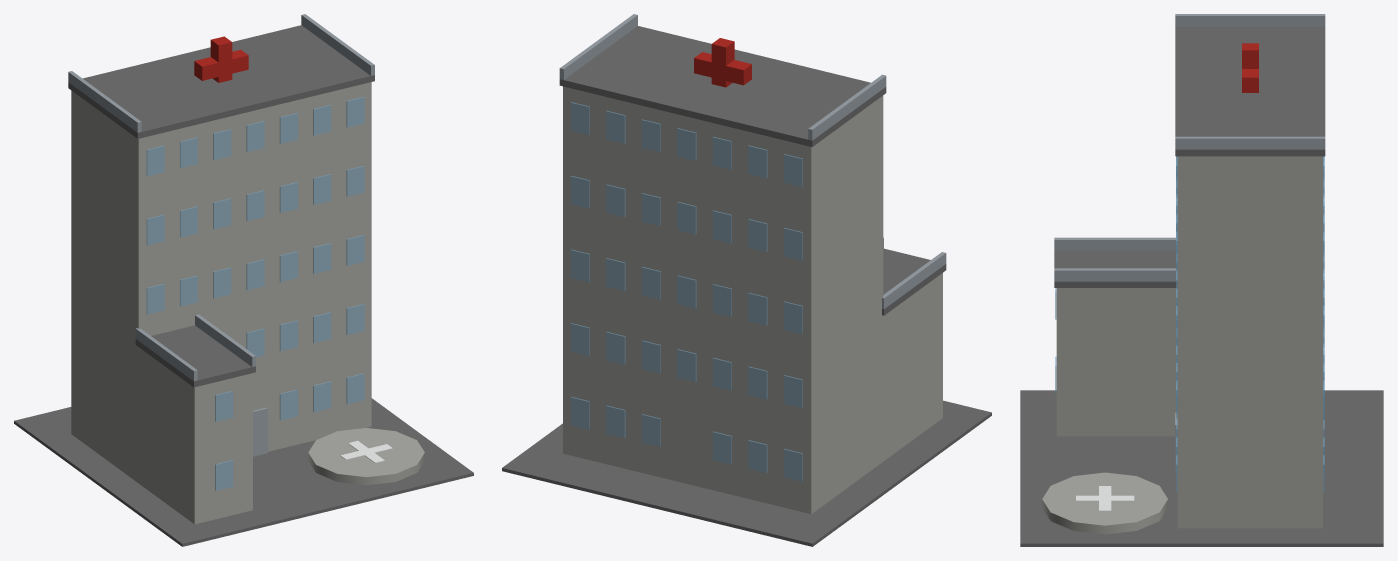
File: bld_special_hospital_a07.glb
The picture shows the model from 3 angles, left to right: view 1: azimuth 30°, elevation 25°; view 2: azimuth 150°, elevation 25°; view 3: azimuth 270°, elevation 25°; orthographic projection. The views are drawn at different scales.
Visible parts, largest first — view 1: body; view 2: body; view 3: body.
Boxes of the visible parts, x1,y1,x2,y2 form: body: (14,14,473,546); body: (502,14,991,546); body: (1020,14,1383,546).
Size of what is drawn, in the model's own units: 15 by 19.3 by 15.
